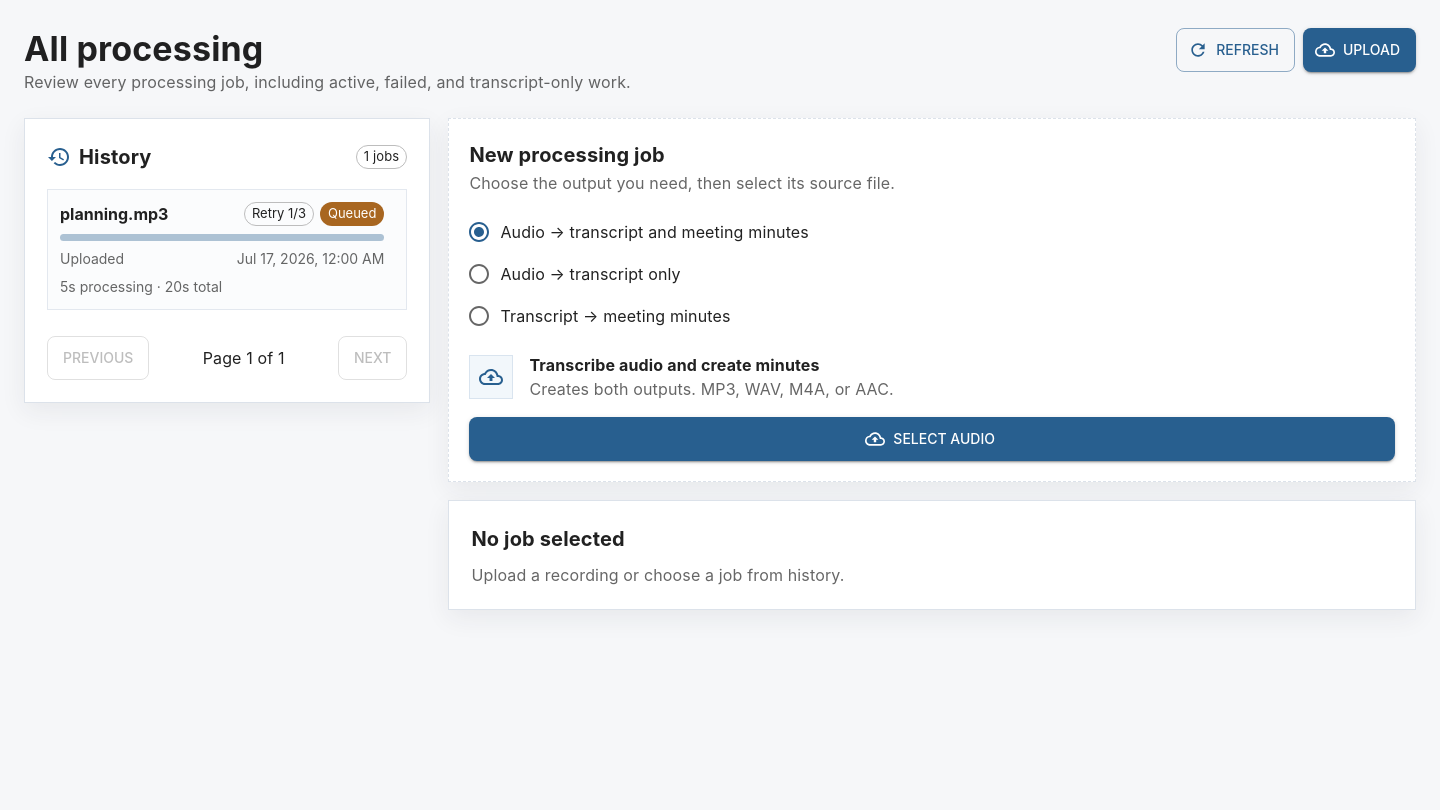
MeetingMind workflow › shows scheduled automatic retry state and a single polite status announcement
This screenshot has width=1440, height=810.
Expected: the text "Retry 1/3" is shown, 252,205 -> 306,221
Click the button "planning.mp3".
click(114, 214)  # box 60,202 -> 384,297
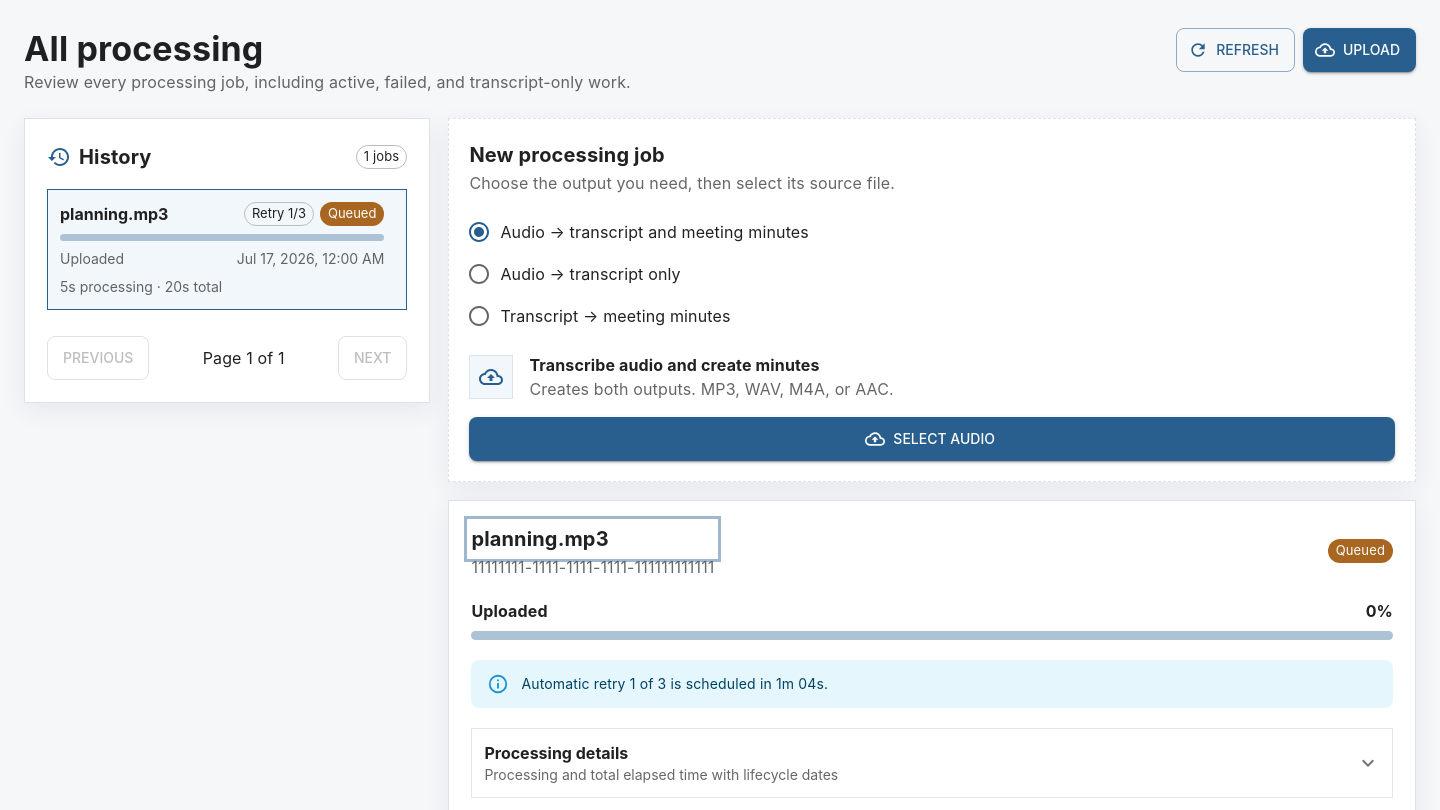
Result: the text "Automatic retry 1 of 3 is scheduled in 1m 04s." is shown at 521,675 -> 828,692
